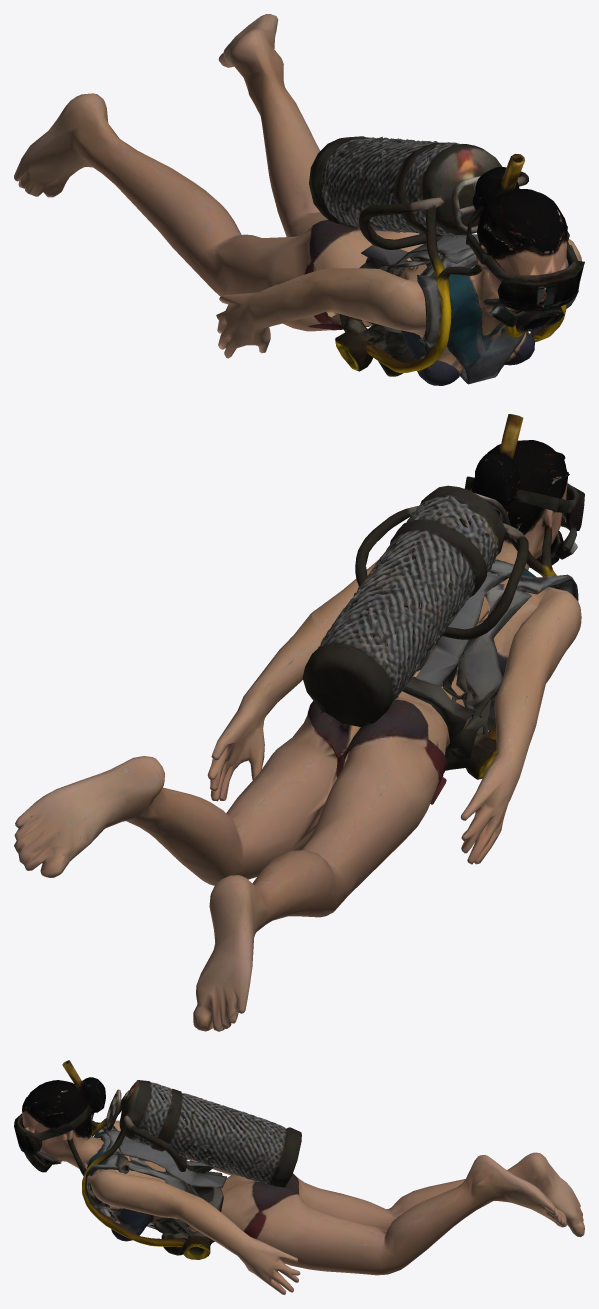
The model's file is diver.glb.
3 views of the same model, one above another, from view 1: azimuth 30°, elevation 25°; view 2: azimuth 150°, elevation 25°; view 3: azimuth 270°, elevation 25° (orthographic). The views are drawn at different scales.
Visible parts, largest first — view 1: geometry_0; view 2: geometry_0; view 3: geometry_0.
Boxes of the visible parts, bbox=[...] form: geometry_0: bbox=[14, 14, 584, 385]; geometry_0: bbox=[14, 414, 584, 1031]; geometry_0: bbox=[14, 1060, 584, 1294].
Size of the model in its own units: 0.3682 by 0.3911 by 1.
1 material, 1 textured.
